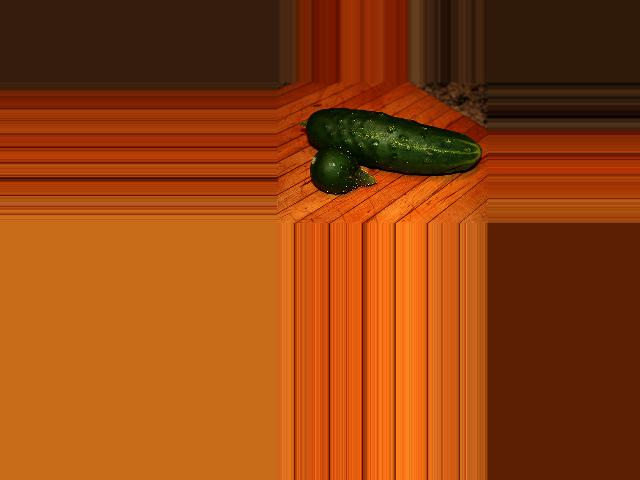cucumber: (305, 108, 482, 175)
